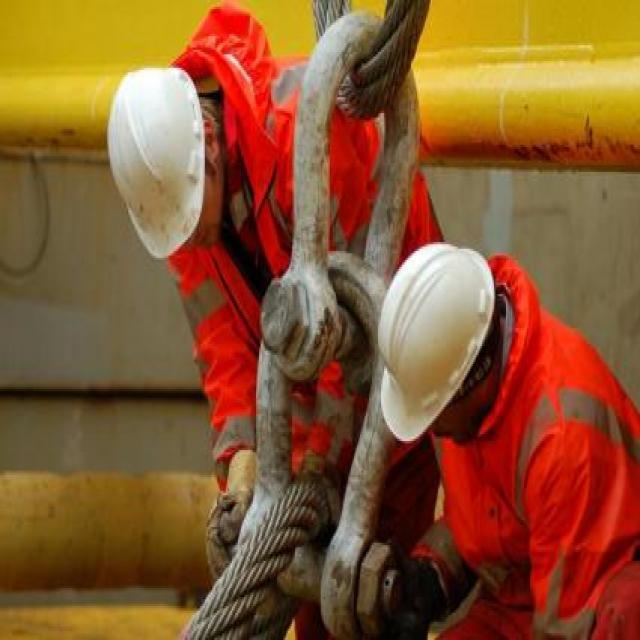Reflective-Jacket: (432, 314, 640, 588)
Safety-Helmet: (369, 233, 504, 445), (98, 59, 214, 267)
